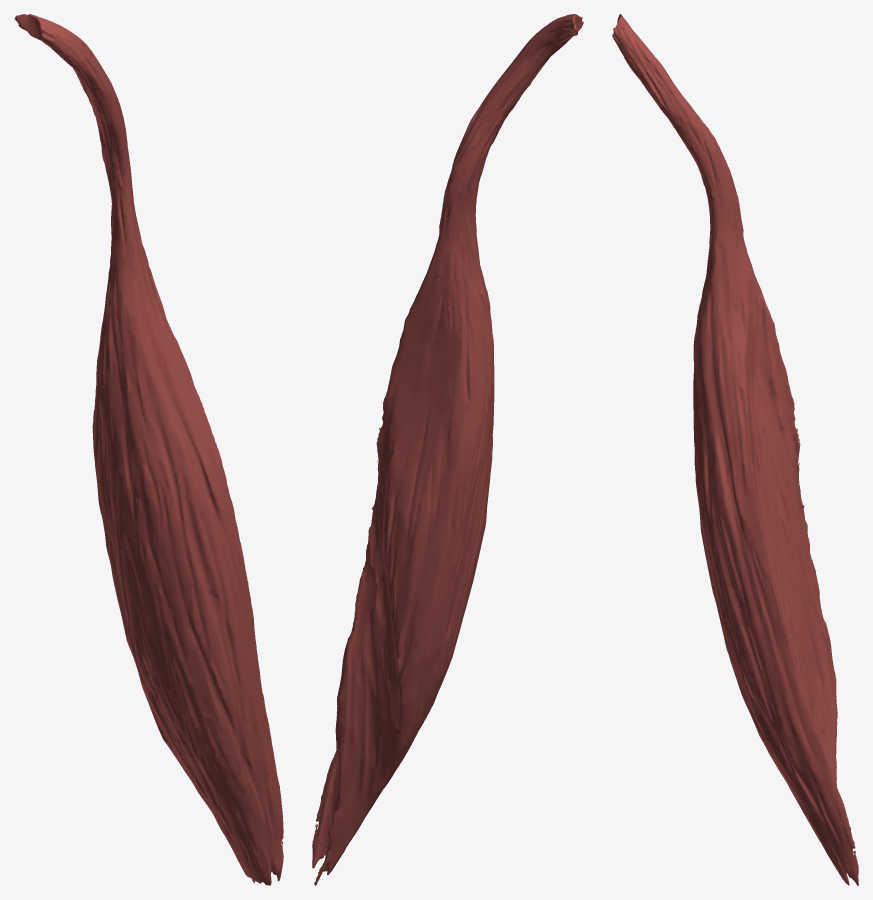
The model's file is FMA37685.glb.
3 renders of one model, left to right at view 1: azimuth 30°, elevation 25°; view 2: azimuth 150°, elevation 25°; view 3: azimuth 330°, elevation 25°, orthographic. The views are drawn at different scales.
Parts seen in each view (by area): view 1: FMA37685; view 2: FMA37685; view 3: FMA37685.
Part boxes in pixels (x1,y1,x2,y2): FMA37685: [14, 14, 283, 885]; FMA37685: [312, 14, 583, 885]; FMA37685: [612, 14, 858, 885].
Bounding box in the file's own units: 0.0789 × 0.2627 × 0.0334.
